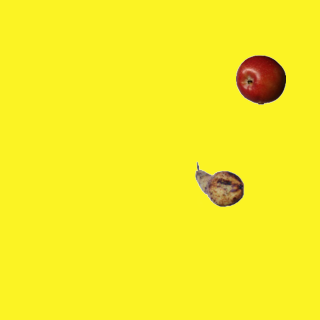Apple Braeburn: (235, 54, 285, 104)
Pear Abate: (194, 159, 244, 209)
